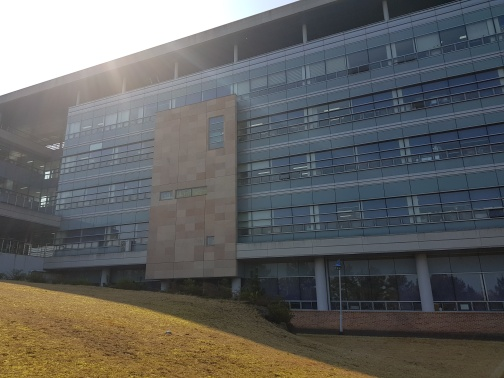Engineering College Building 4: (29, 57, 499, 291), (237, 8, 504, 324), (316, 9, 495, 314), (54, 96, 253, 265)
